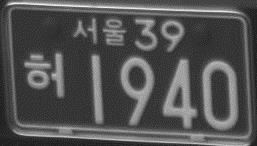0: (199, 58, 240, 131)
1: (88, 51, 108, 126)
3: (134, 17, 157, 51)
4: (159, 56, 199, 131)
9: (119, 56, 157, 127), (160, 19, 185, 53)
서울_O: (72, 15, 127, 47)
허: (23, 51, 67, 99)
